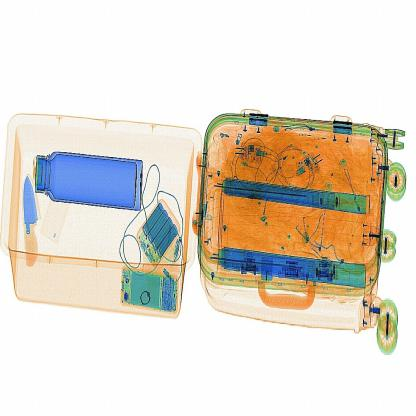wrench: (16, 176, 37, 267)
